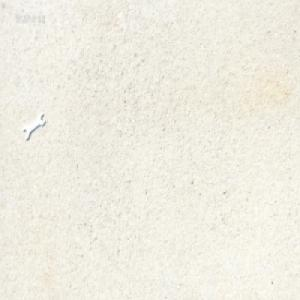Wrench: (26, 108, 49, 139)
